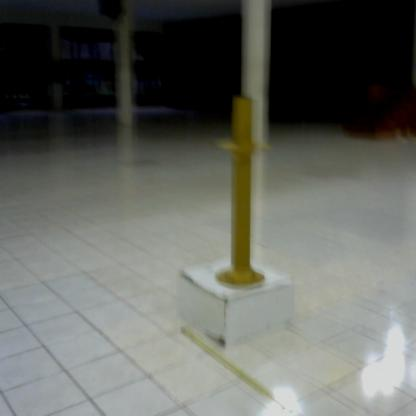pole: (209, 90, 279, 295)
